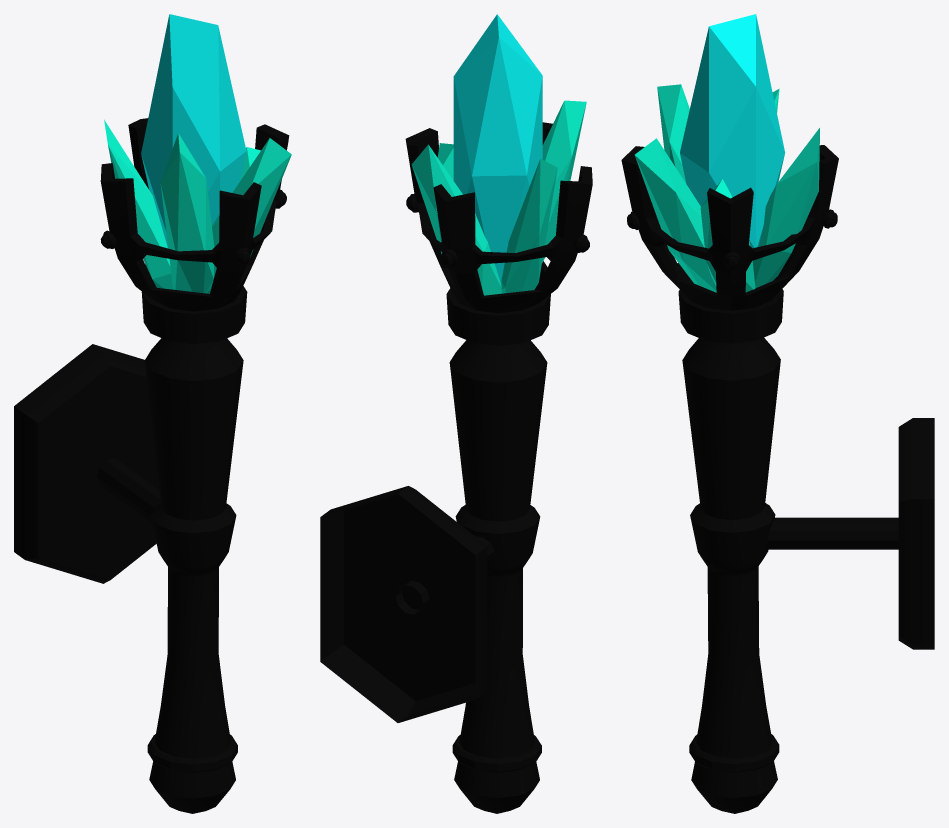
The model's file is 3dm_TorchWCrystal.fbx.
3 renders of one model, left to right at view 1: azimuth 30°, elevation 25°; view 2: azimuth 150°, elevation 25°; view 3: azimuth 270°, elevation 25°, orthographic.
Parts seen in each view (by area): view 1: Torch, Base, Crystal2, Crystal5, Crystal6, Crystal3, Arm; view 2: Torch, Base, Crystal2, Crystal6, Crystal5, Crystal7, Arm; view 3: Torch, Crystal2, Base, Crystal3, Crystal7, Arm, Crystal5, Crystal4.
Boxes of the visible parts, bbox=[...] form: Torch: bbox=[100, 118, 289, 813]; Base: bbox=[14, 344, 159, 583]; Crystal2: bbox=[141, 14, 246, 248]; Crystal5: bbox=[160, 133, 214, 293]; Crystal6: bbox=[104, 119, 173, 289]; Crystal3: bbox=[205, 138, 291, 293]; Arm: bbox=[96, 458, 160, 523]; Torch: bbox=[405, 122, 592, 813]; Base: bbox=[320, 486, 487, 722]; Crystal2: bbox=[453, 14, 542, 283]; Crystal6: bbox=[501, 158, 557, 293]; Crystal5: bbox=[542, 100, 586, 262]; Crystal7: bbox=[411, 144, 502, 295]; Arm: bbox=[395, 535, 494, 614]; Torch: bbox=[621, 145, 838, 813]; Crystal2: bbox=[680, 14, 785, 260]; Base: bbox=[898, 418, 934, 649]; Crystal3: bbox=[634, 138, 716, 292]; Crystal7: bbox=[752, 128, 819, 287]; Arm: bbox=[766, 517, 898, 549]; Crystal5: bbox=[657, 84, 689, 183]; Crystal4: bbox=[700, 179, 755, 292].
Size of the model in its own units: 14.46 by 58.21 by 20.81.
